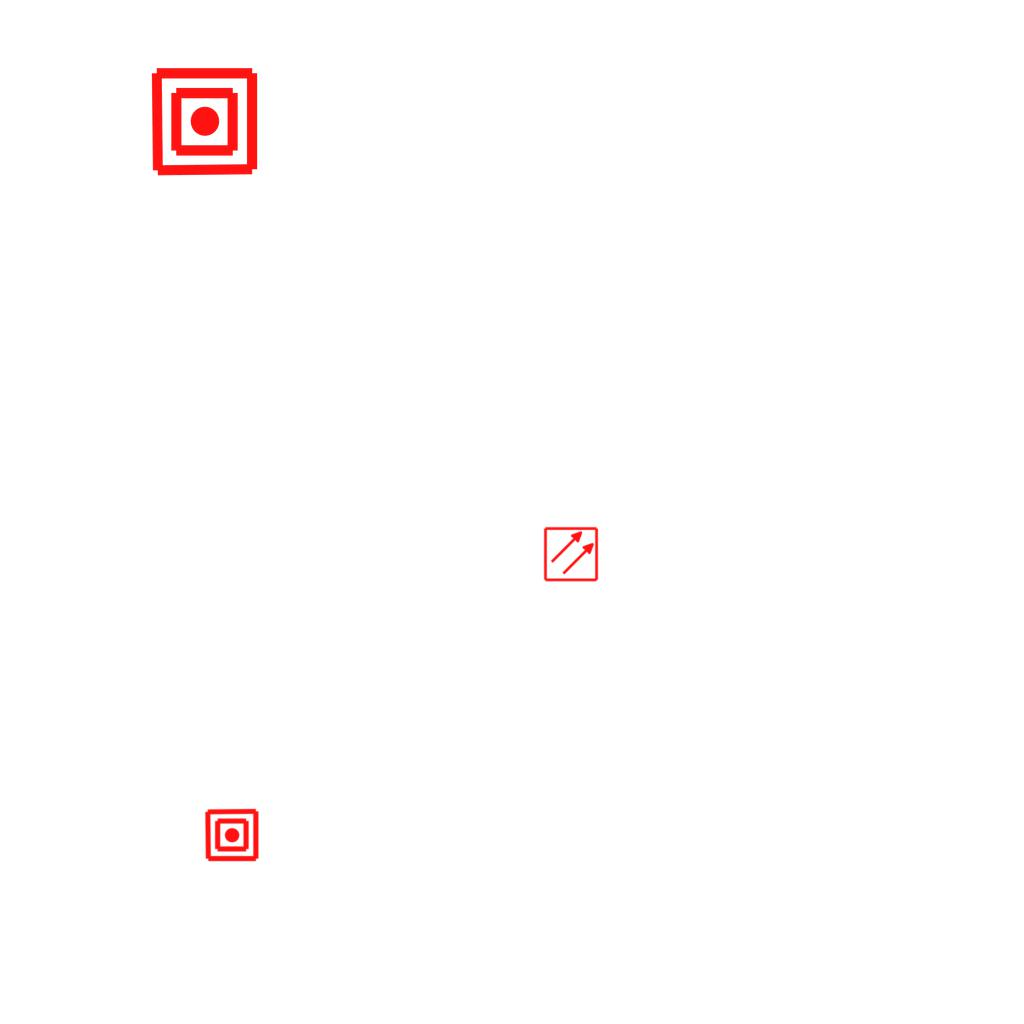NAM-Nichtautomatischer_Melder: (148, 65, 261, 178), (204, 807, 260, 863)
RMO_Rauchmelder_optischer: (543, 526, 599, 582)
